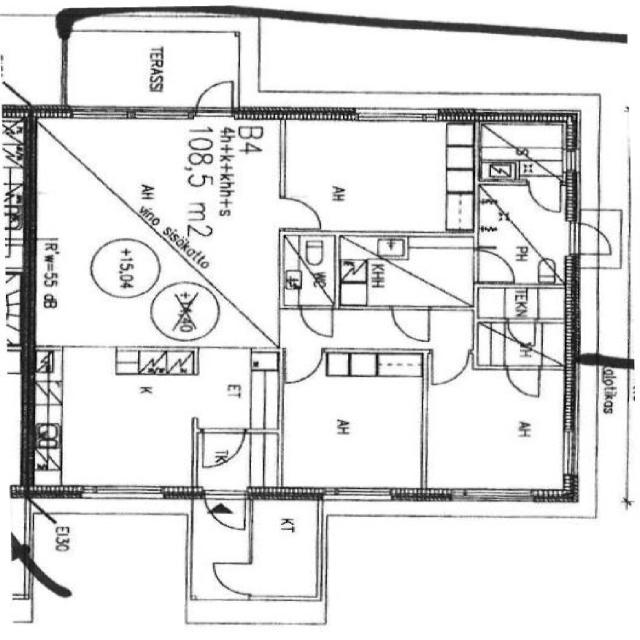door: (194, 424, 251, 473), (202, 481, 252, 536), (386, 302, 436, 348), (274, 192, 330, 233), (204, 556, 258, 598), (467, 246, 521, 286), (500, 362, 546, 402), (192, 76, 238, 116), (569, 218, 614, 258), (282, 348, 325, 387), (294, 303, 338, 341), (428, 352, 472, 388), (524, 177, 566, 214), (500, 315, 541, 350)
window: (72, 480, 179, 510), (446, 482, 540, 511), (81, 102, 196, 124), (320, 484, 399, 506), (7, 494, 38, 548), (353, 107, 436, 126), (62, 102, 136, 123), (9, 562, 38, 610), (562, 145, 585, 175)
zone: (29, 355, 212, 489), (281, 120, 473, 234), (278, 352, 428, 490), (474, 180, 574, 286), (249, 494, 323, 604), (474, 119, 576, 181)
